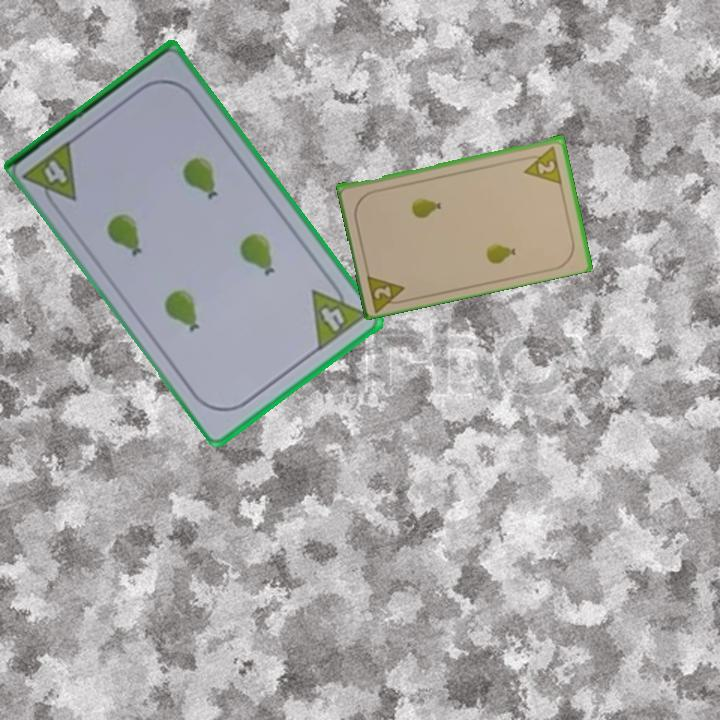2p: (363, 269, 411, 313), (519, 142, 565, 186)
4p: (308, 274, 370, 354), (21, 136, 80, 215)
